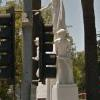Statue: (39, 2, 79, 80)
